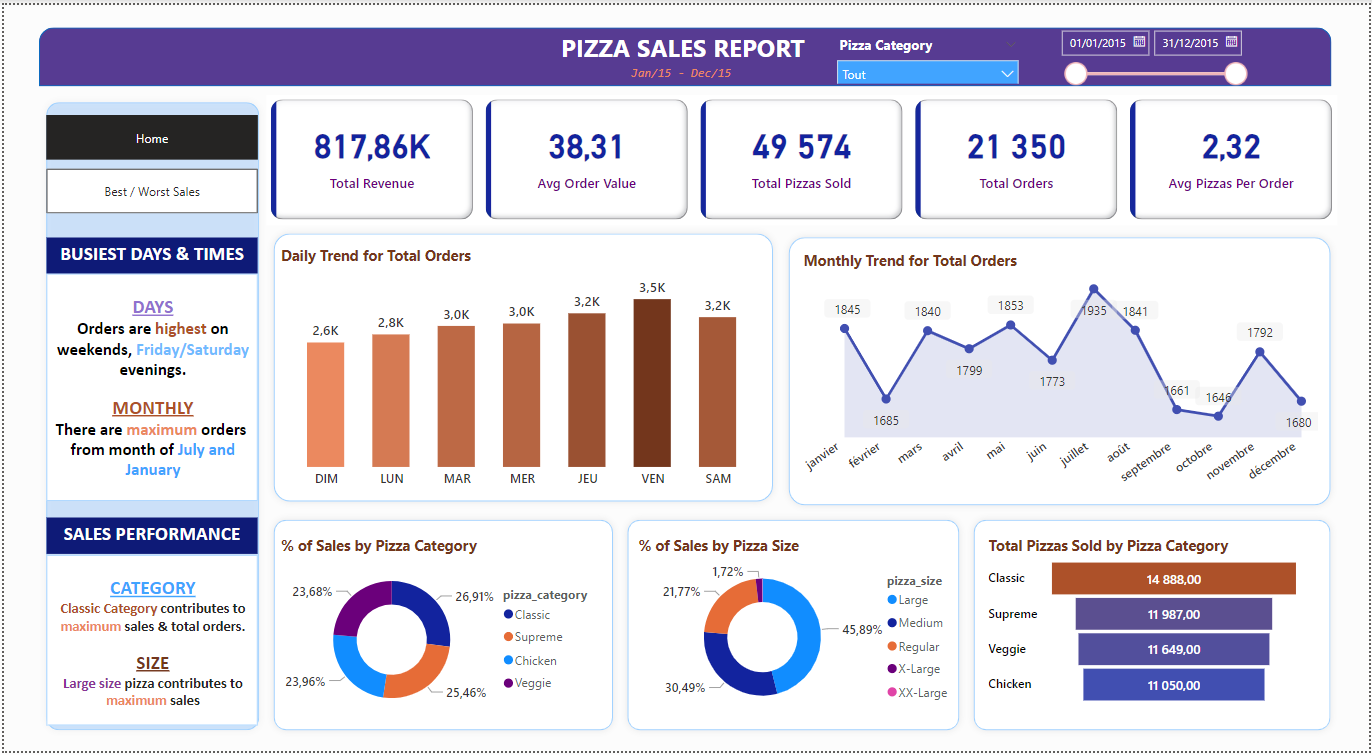

What the dashboard file says about the page in this screenshot:
{"tool":"powerbi","page":{"name":"Home","canvas":[1500,820],"ordinal":0},"visuals":[{"type":"cardVisual","fields":{"Data":["pizza_sales$.Total Revenue","pizza_sales$.Avg Order Value","pizza_sales$.Total Pizzas Sold","pizza_sales$.Total Orders","pizza_sales$.Avg Pizzas Per Order"]},"box":[288.8,98.9,1177.1,142.8],"z":0},{"type":"shape","box":[38.5,24.7,1420.2,64.6],"z":1000},{"type":"textbox","box":[607.1,23.4,287.1,45.3],"z":2000},{"type":"textbox","box":[684,60.4,133.2,28.8],"z":3000},{"type":"shape","box":[288.8,242.7,564.5,310.4],"z":4000},{"type":"columnChart","title":"Daily Trend for Total Orders","fields":{"Category":["pizza_sales$.Order day"],"Y":["pizza_sales$.Total Orders"]},"box":[299.8,263.3,541.2,276.1],"z":5000},{"type":"shape","box":[854.7,246.9,611.2,310.4],"z":6000},{"type":"areaChart","title":"Monthly Trend for Total Orders","fields":{"Y":["pizza_sales$.Total Orders"],"Category":["pizza_sales$.Nom du mois"]},"box":[873.9,268.8,575.5,276.1],"z":7000},{"type":"shape","box":[288.8,557.7,388.7,247.2],"z":8000},{"type":"shape","box":[677.5,557.7,380.5,247.2],"z":9000},{"type":"shape","box":[1058,557.7,407.9,247.2],"z":10000},{"type":"donutChart","title":"% of Sales by Pizza Category","fields":{"Category":["pizza_sales$.pizza_category"],"Y":["pizza_sales$.Total Revenue"]},"box":[299.8,582.4,362.6,208.8],"z":11000},{"type":"donutChart","title":"% of Sales by Pizza Size ","fields":{"Y":["pizza_sales$.Total Revenue"],"Category":["pizza_sales$.pizza_size"]},"box":[692.6,582.4,362.6,203.3],"z":12000},{"type":"funnel","title":"Total Pizzas Sold by Pizza Category","fields":{"Category":["pizza_sales$.pizza_category"],"Y":["pizza_sales$.Total Pizzas Sold"]},"box":[1077.2,582.4,353,190.9],"z":13000},{"type":"shape","box":[38.5,98.9,250,706],"z":14000},{"type":"textbox","box":[46.7,255.5,232.1,39.8],"z":15000},{"type":"textbox","box":[46.7,295.3,232.1,250],"z":16000},{"type":"textbox","box":[46.7,563.1,232.1,39.8],"z":17000},{"type":"textbox","box":[46.7,604.4,232.1,186.8],"z":18000},{"type":"slicer","fields":{"Values":["pizza_sales$.pizza_category"]},"box":[905.2,28.8,219.8,57.7],"z":19000},{"type":"slicer","fields":{"Values":["pizza_sales$.order_date"]},"box":[1149.6,17.9,225.3,81],"z":20000},{"type":"pageNavigator","box":[46.7,120.9,232.1,49.4],"z":20001},{"type":"pageNavigator","box":[46.7,179.9,232.1,49.4],"z":20002}]}

Visuals, with their boxes in screenshot pixels (x1, y1, x2, y2), scaled from the page's 1500x820 canvas onto the 1372x755 screenshot:
cardVisual - pizza_sales$.Total Revenue x pizza_sales$.Avg Order Value: bbox=[264, 91, 1341, 223]
shape: bbox=[35, 23, 1334, 82]
textbox: bbox=[555, 22, 818, 63]
textbox: bbox=[626, 56, 747, 82]
shape: bbox=[264, 223, 780, 509]
"Daily Trend for Total Orders" columnChart: bbox=[274, 242, 769, 497]
shape: bbox=[782, 227, 1341, 513]
"Monthly Trend for Total Orders" areaChart: bbox=[799, 247, 1326, 502]
shape: bbox=[264, 513, 620, 741]
shape: bbox=[620, 513, 968, 741]
shape: bbox=[968, 513, 1341, 741]
"% of Sales by Pizza Category" donutChart: bbox=[274, 536, 606, 728]
"% of Sales by Pizza Size " donutChart: bbox=[633, 536, 965, 723]
"Total Pizzas Sold by Pizza Category" funnel: bbox=[985, 536, 1308, 712]
shape: bbox=[35, 91, 264, 741]
textbox: bbox=[43, 235, 255, 272]
textbox: bbox=[43, 272, 255, 502]
textbox: bbox=[43, 518, 255, 555]
textbox: bbox=[43, 556, 255, 728]
slicer - pizza_sales$.pizza_category: bbox=[828, 27, 1029, 80]
slicer - pizza_sales$.order_date: bbox=[1052, 16, 1258, 91]
pageNavigator: bbox=[43, 111, 255, 157]
pageNavigator: bbox=[43, 166, 255, 211]
